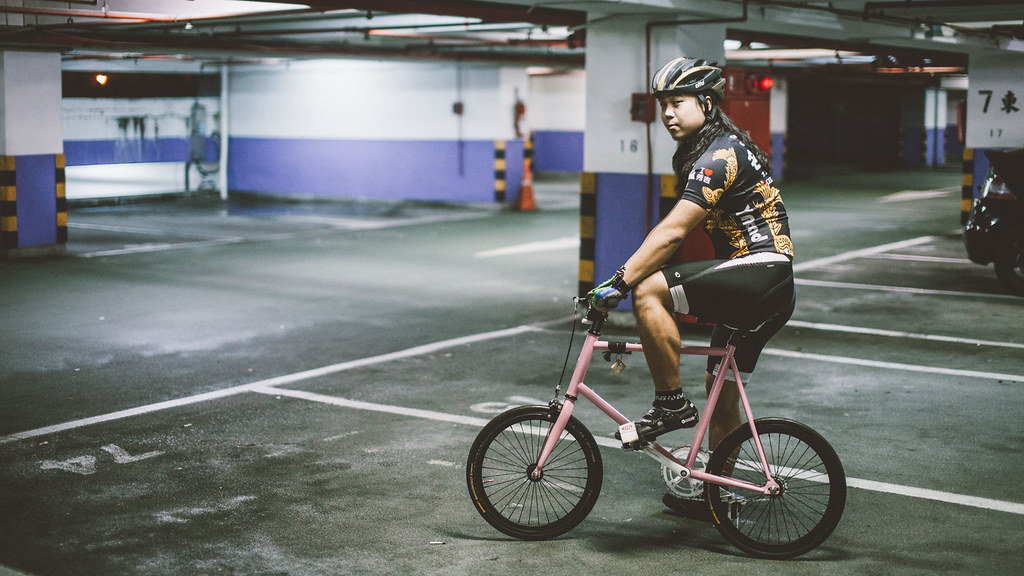person: (595, 48, 799, 430)
